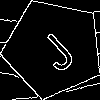J: (28, 23, 79, 75)
